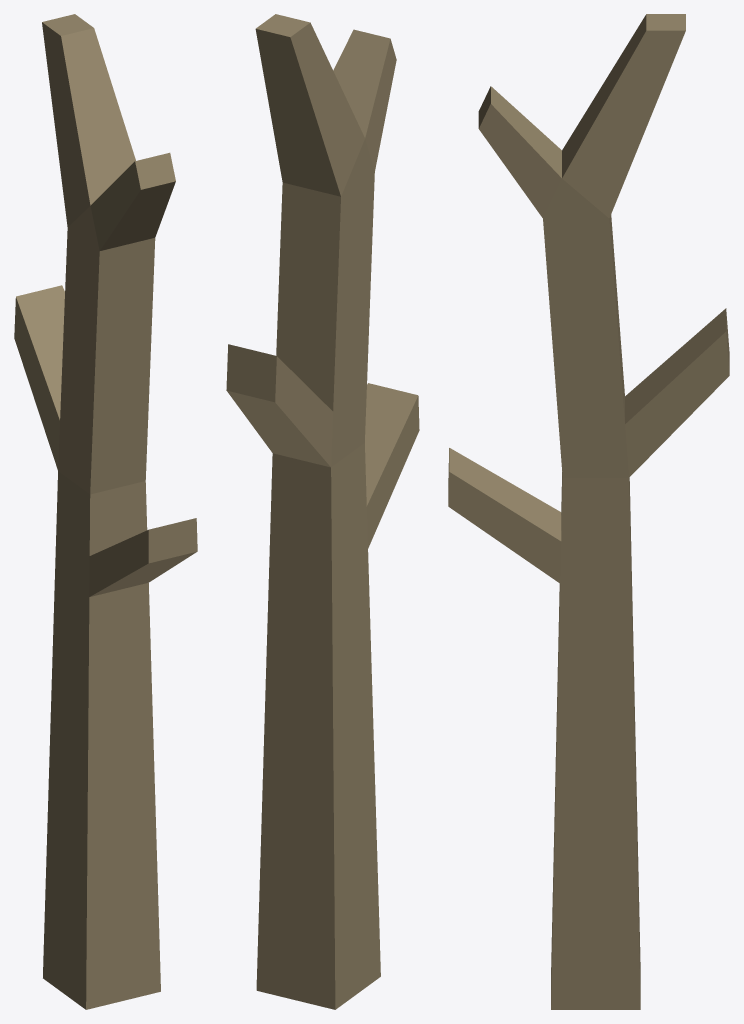
Rendered from tree_big_2.fbx.
3 renders of one model, left to right at view 1: azimuth 30°, elevation 25°; view 2: azimuth 150°, elevation 25°; view 3: azimuth 270°, elevation 25°, orthographic. The views are drawn at different scales.
Visible parts, largest first — view 1: tree_big_2; view 2: tree_big_2; view 3: tree_big_2.
Boxes of the visible parts, box(x1,y1,x2,y2) form: tree_big_2: box(14, 14, 197, 1009); tree_big_2: box(226, 14, 419, 1009); tree_big_2: box(448, 14, 729, 1009).
Bounding box in the file's own units: 29.2 × 348 × 91.55.
